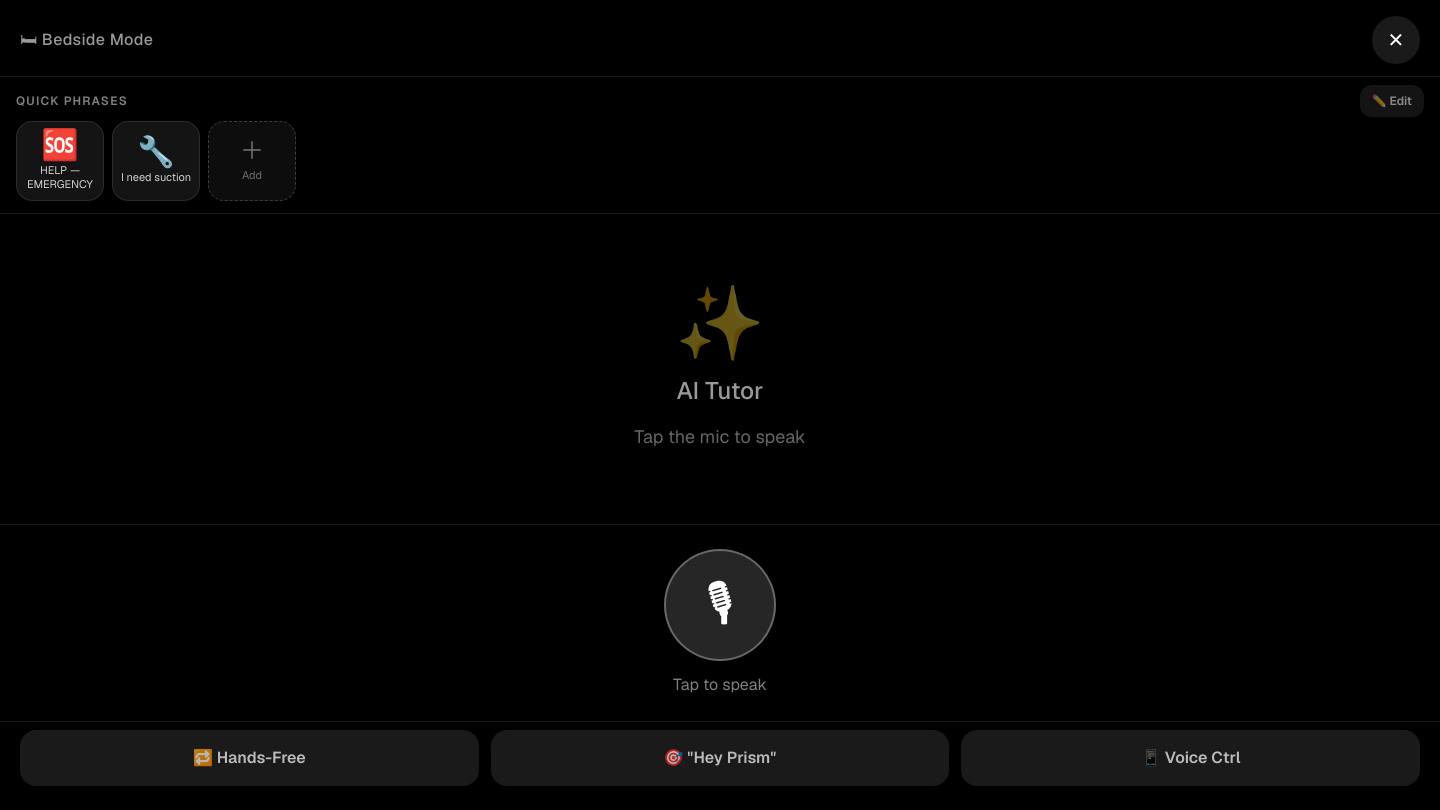
Test case: BedsideOverlay — Quick Cards section › confirm button becomes enabled when text is typed
Click the button with test id "bedside-add-card-btn" at (252, 161), box [208,121,296,201]
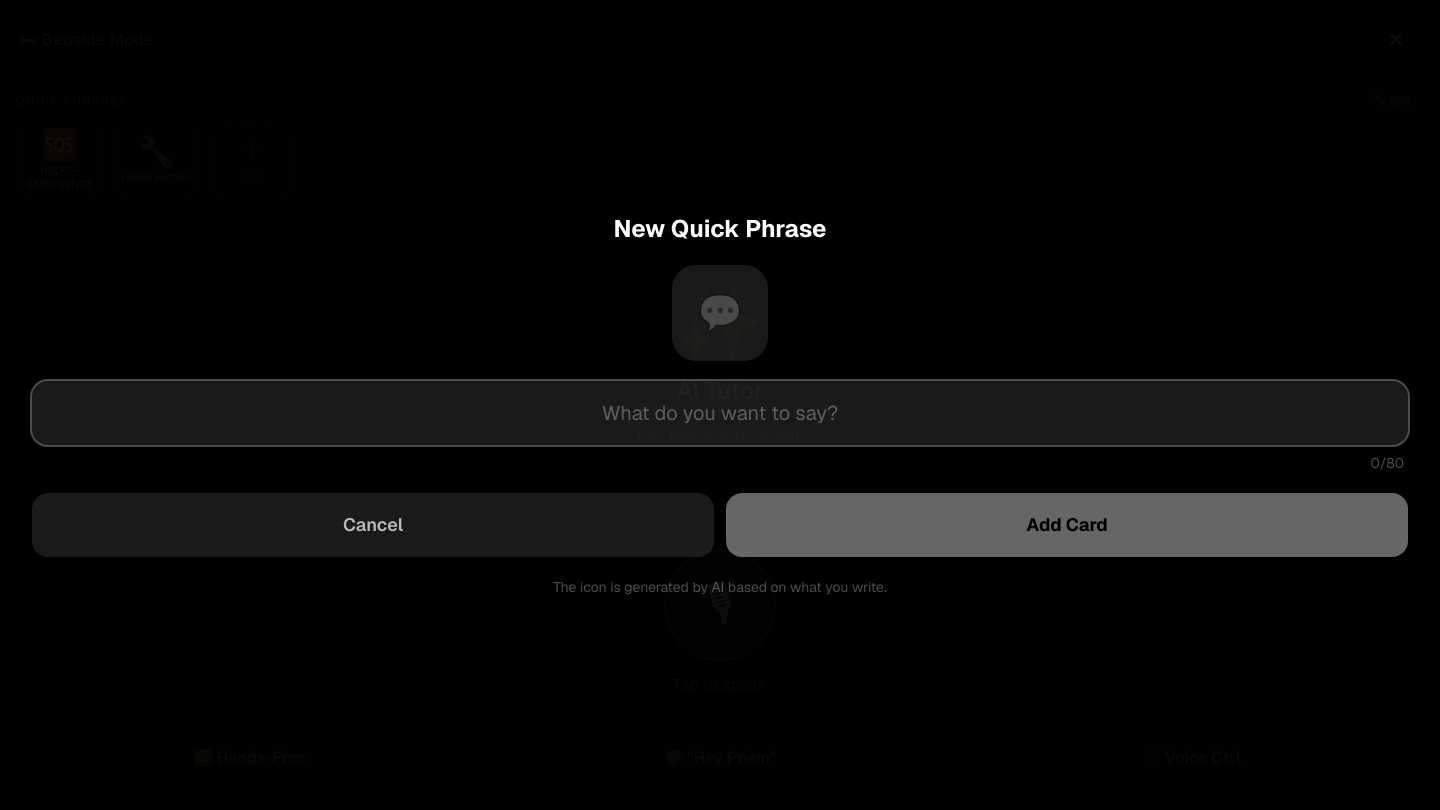
Type "Please turn off the lights" into the field named "quick phrase text" at (720, 413), box [32,381,1408,445]
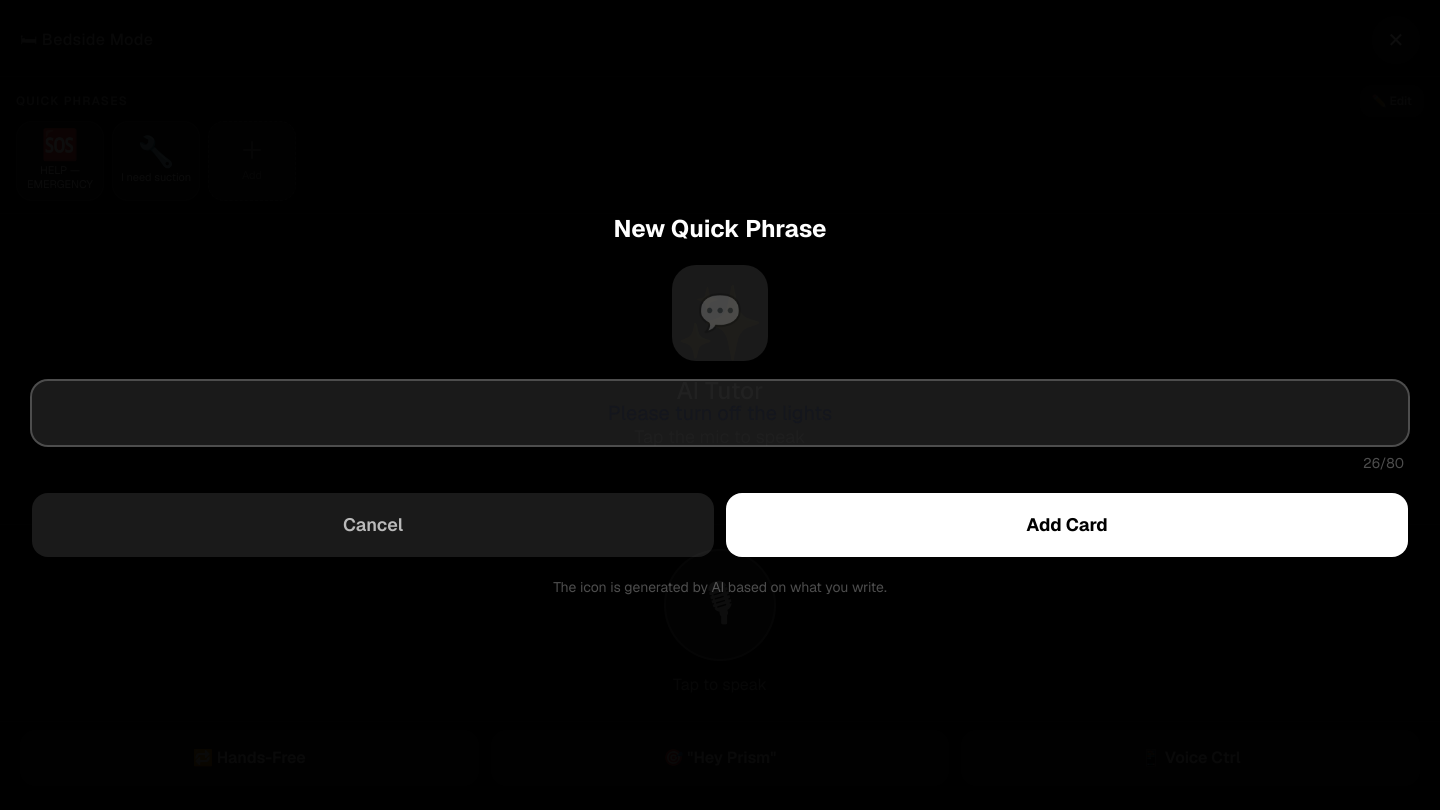
Now the button with test id "bedside-add-card-confirm" is enabled, box [726,493,1408,557]
